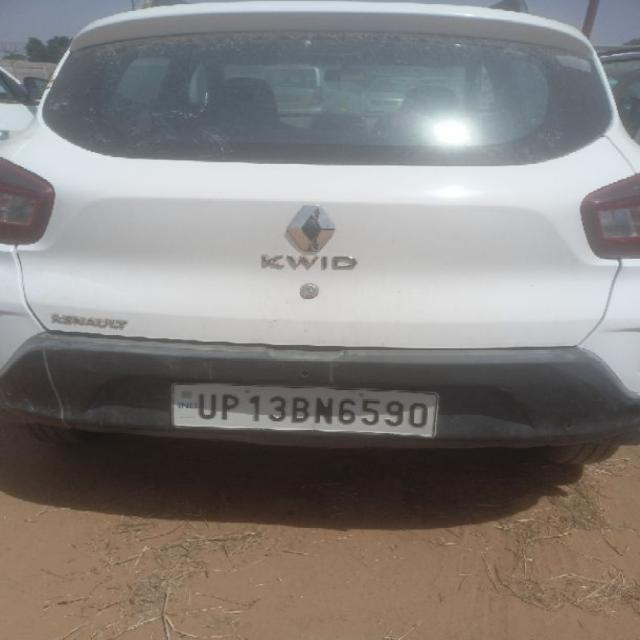license_plate: (168, 381, 440, 439)
